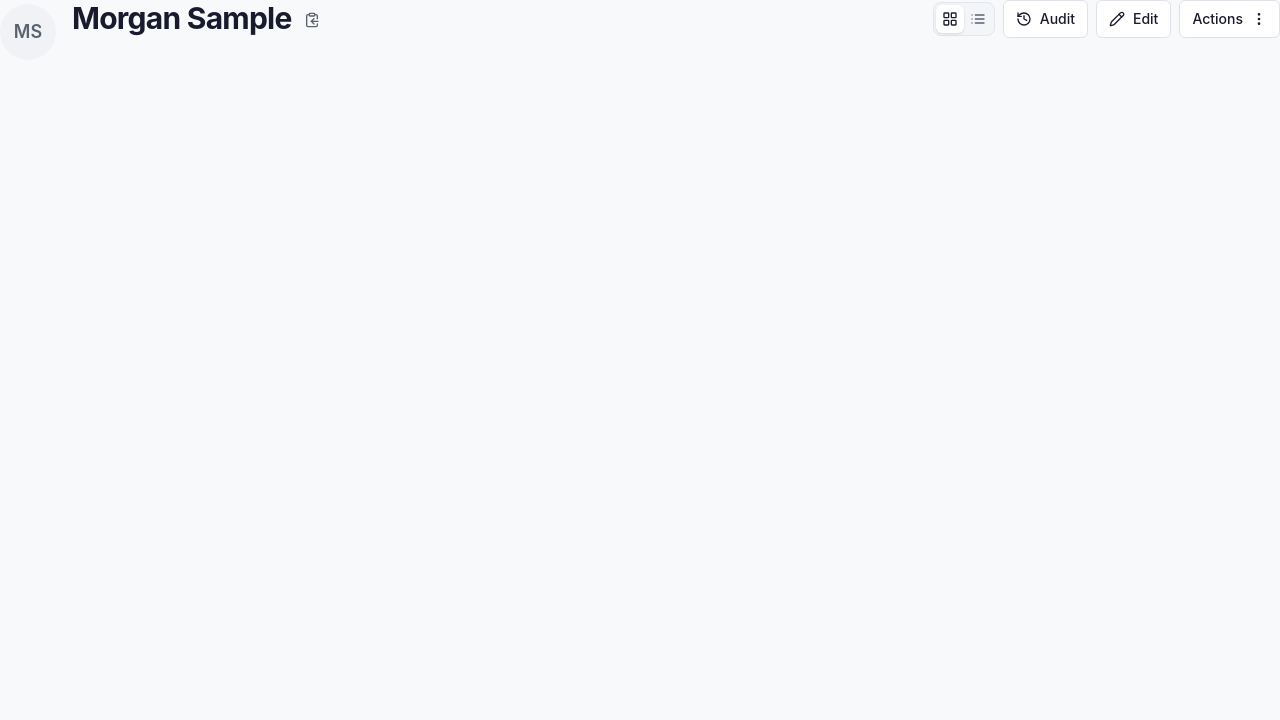
RecordViewHeader audit history › returns focus to the Audit button when the dialog closes, even if the click did not focus it
The image size is (1280, 720).
Safari does not focus a clicked button
Click the button with aria-label "Audit history for Morgan Sample": (1045, 19) [1003,0,1088,38]
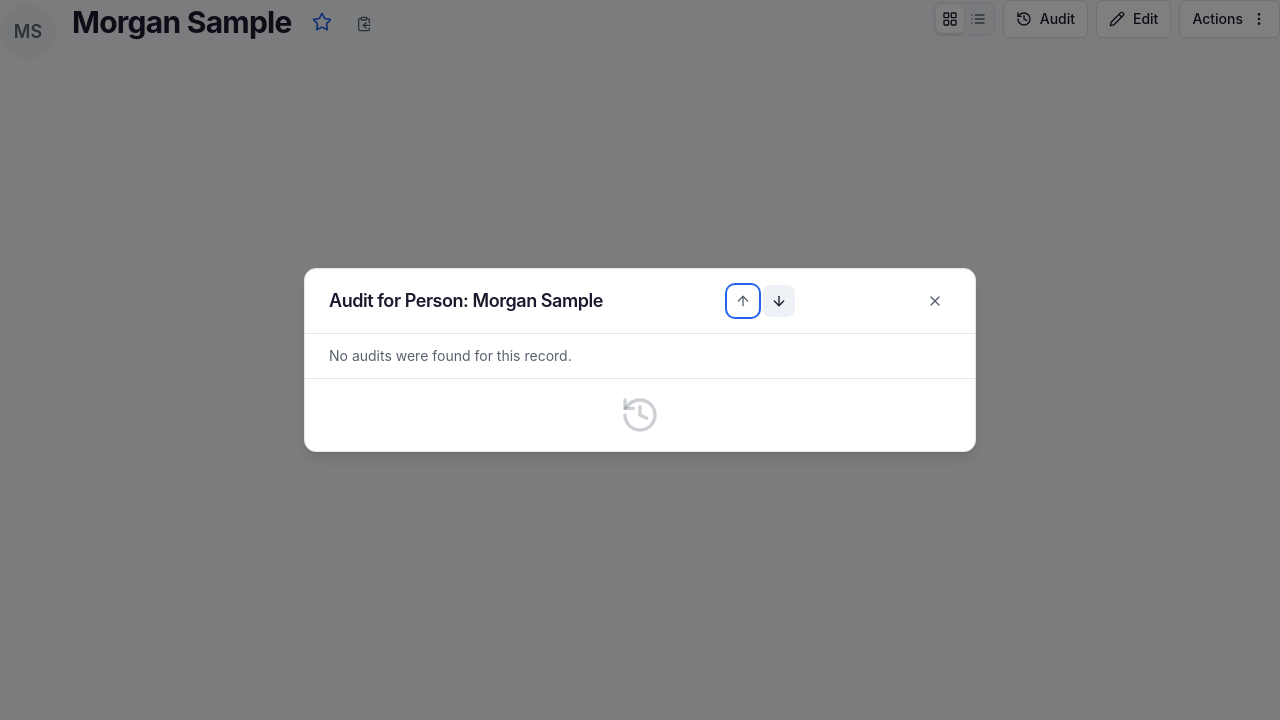
Now the dialog shows "No audits were found for this record.", box [329,347,572,364]
Press Escape
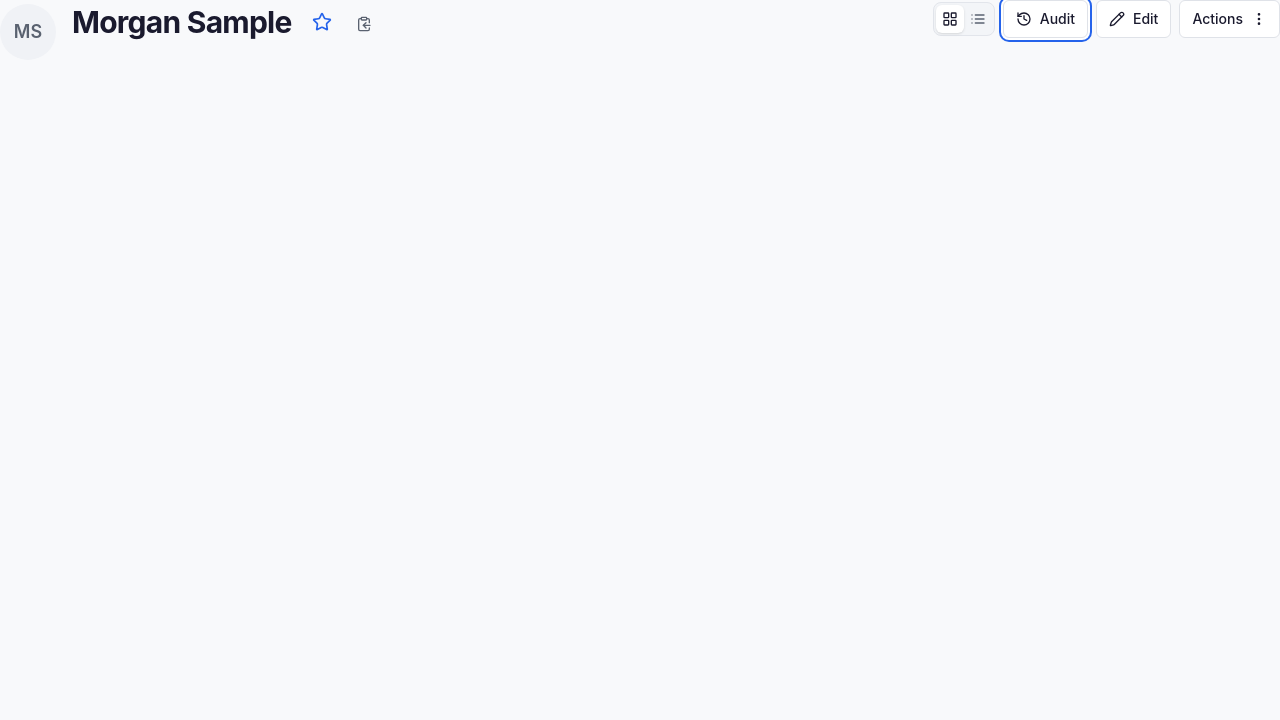
Now the dialog is gone
